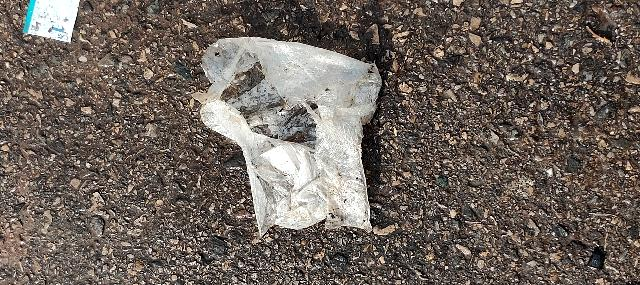polythene: (179, 30, 409, 263)
